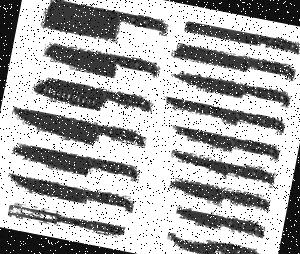knife: (3, 102, 154, 161), (2, 168, 154, 218), (34, 0, 173, 53), (7, 140, 150, 188), (38, 39, 160, 88), (32, 76, 160, 122), (163, 93, 298, 135), (164, 144, 283, 191), (169, 68, 300, 110), (172, 43, 300, 85), (179, 15, 300, 59), (168, 120, 287, 164), (164, 174, 284, 216), (0, 198, 125, 237), (166, 201, 278, 240), (162, 228, 268, 252)
